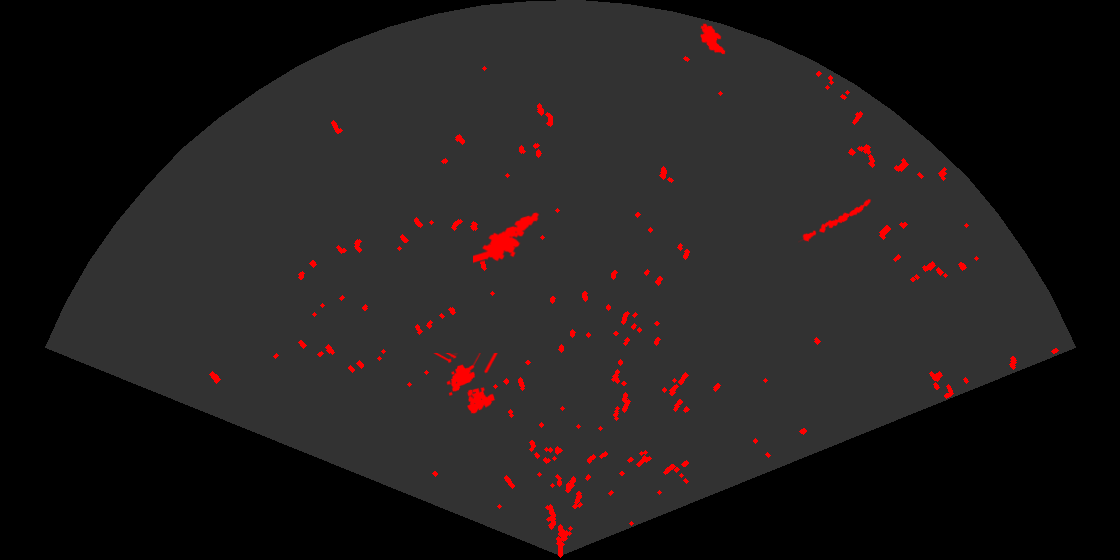AUV: (699, 22, 727, 56)
cage: (432, 353, 499, 415)
chain: (798, 197, 873, 244)
frogman: (473, 211, 541, 265)
